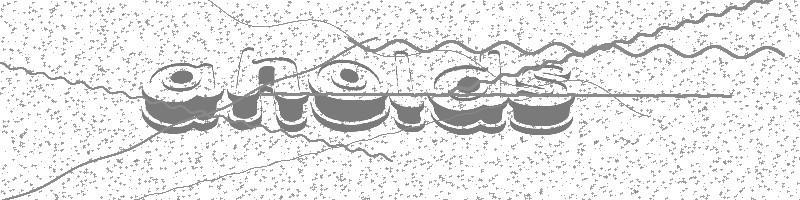a: (135, 56, 227, 134)
d: (428, 46, 508, 138)
h: (228, 43, 310, 136)
l: (390, 47, 427, 135)
o: (308, 57, 391, 131)
s: (508, 58, 578, 139)
